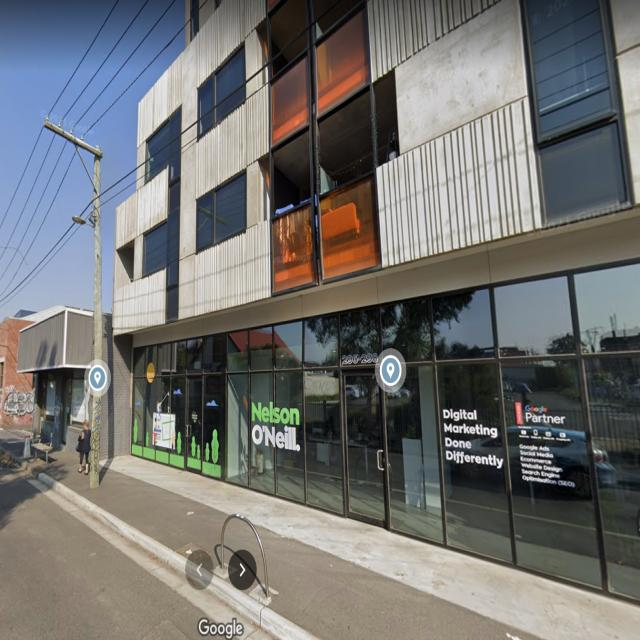crossarm: (42, 115, 102, 158)
streetlight: (72, 212, 93, 230)
timber-pole: (90, 143, 102, 489)
